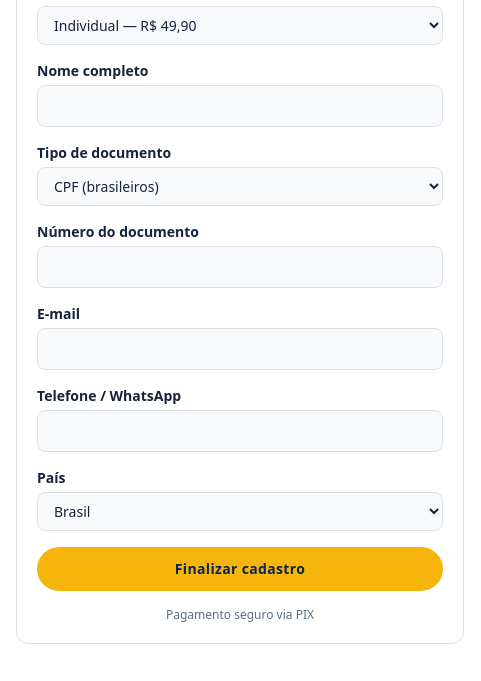
Test: RegisterForm › corta dependentes que não cabem ao descer de plano
Select "Família — R$ 99,90" in the dropdown labelled "Plano": (240, 26) [37,6,443,45]
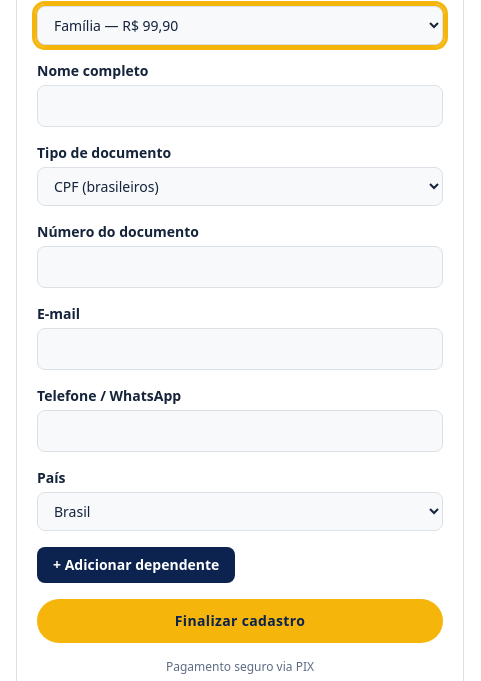
Click the button "+ Adicionar dependente": (136, 565) [37,547,235,583]
(page scrolled)
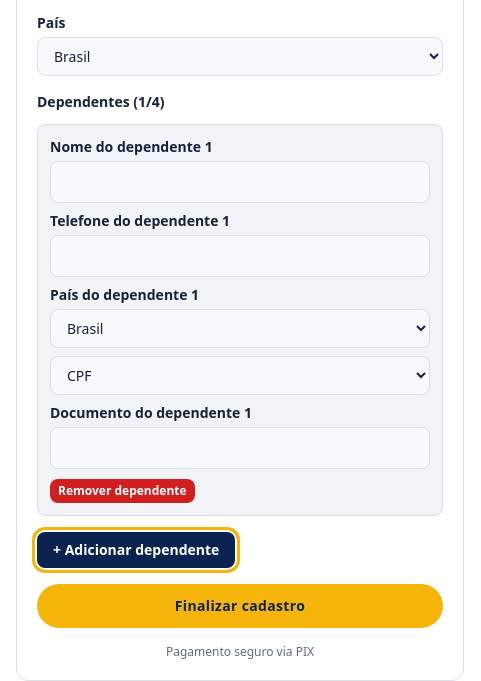
Click the button "+ Adicionar dependente": (136, 550) [37,532,235,568]
(page scrolled)
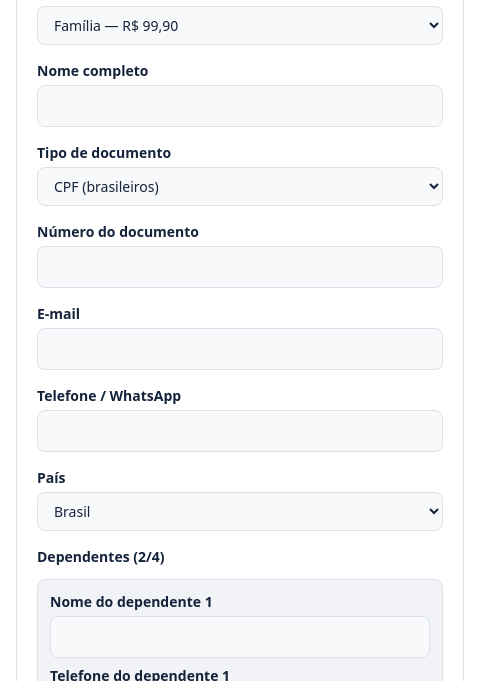
Select "Casal — R$ 79,90" in the dropdown labelled "Plano": (240, 26) [37,6,443,45]
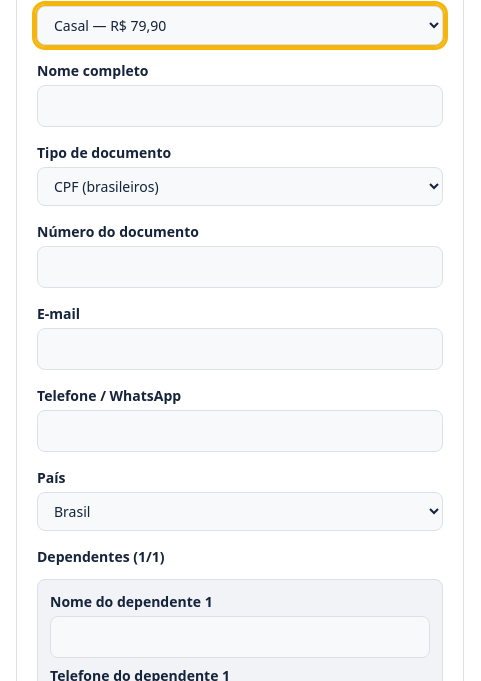
Now the field labelled "Nome do dependente 1" is shown, box [50,616,430,658]
Individual não aceita nenhum.
Select "Individual — R$ 49,90" in the dropdown labelled "Plano": (240, 26) [37,6,443,45]
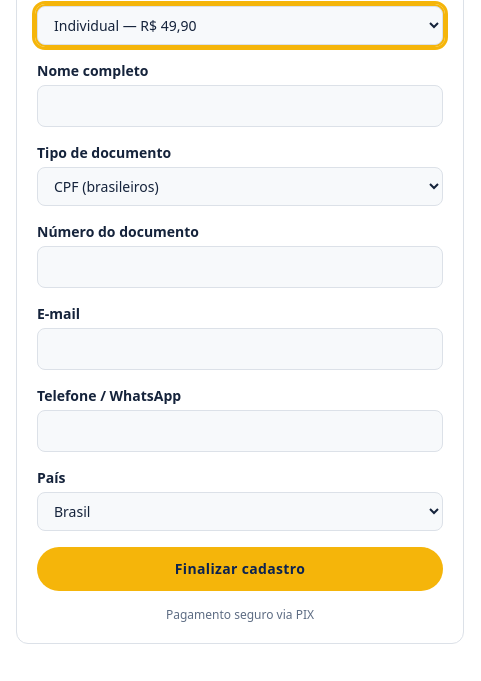
Expected: the form "adicionar dependente" is not shown
Now the label labelled "Nome do dependente 1" is gone
